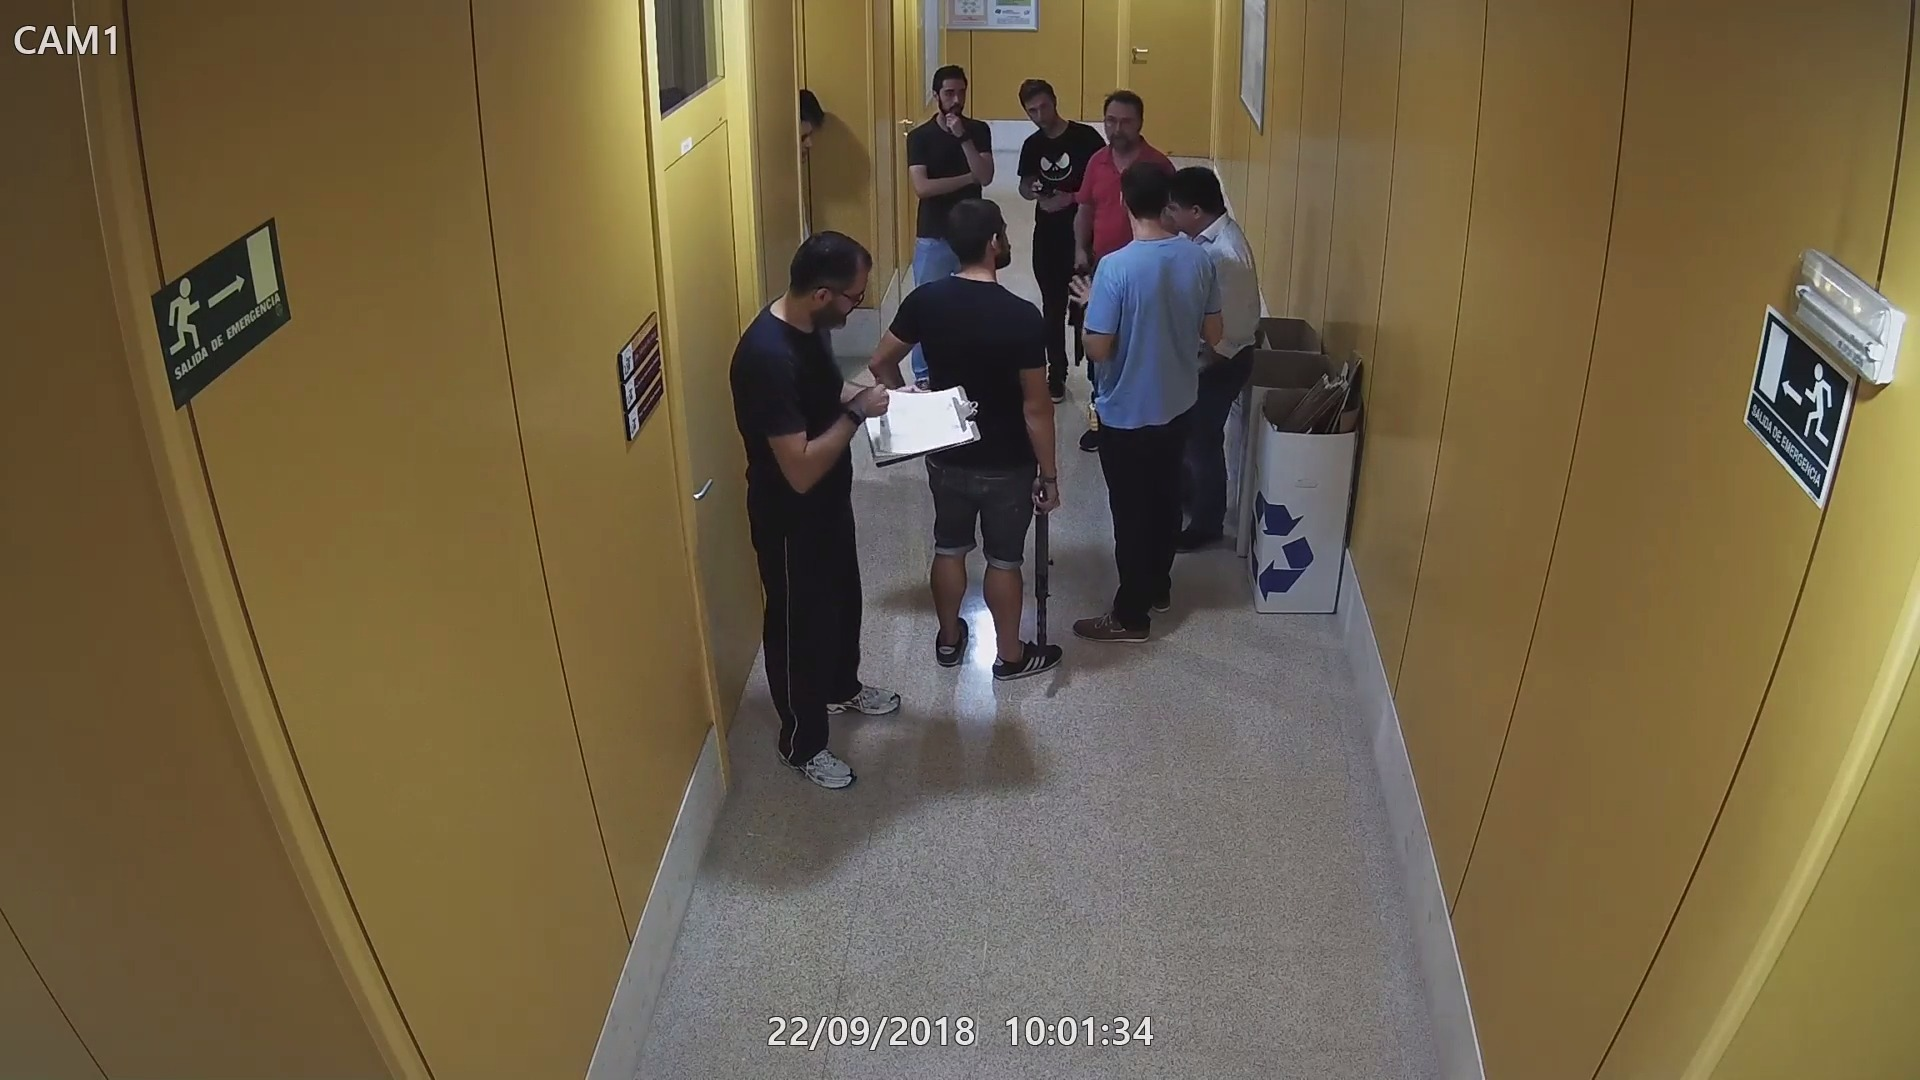Short_rifle: (1029, 477, 1056, 663), (1067, 266, 1095, 368)
